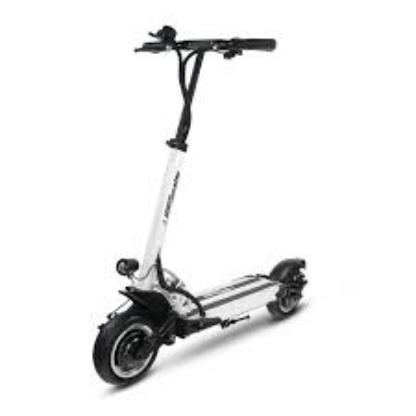bike: (91, 25, 310, 390), (92, 257, 309, 389)
